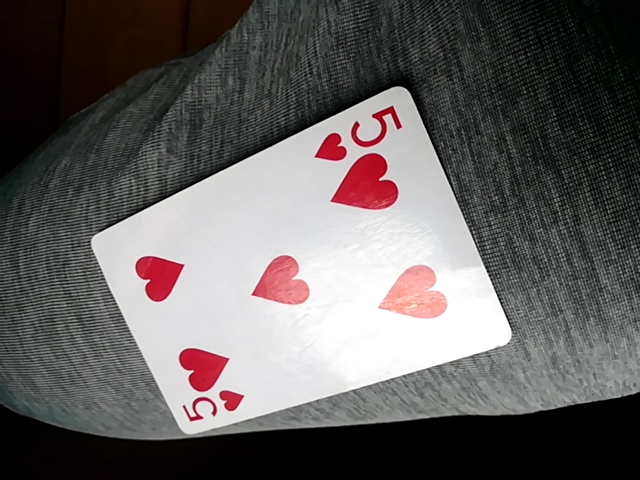hx 5: (90, 83, 522, 442)
